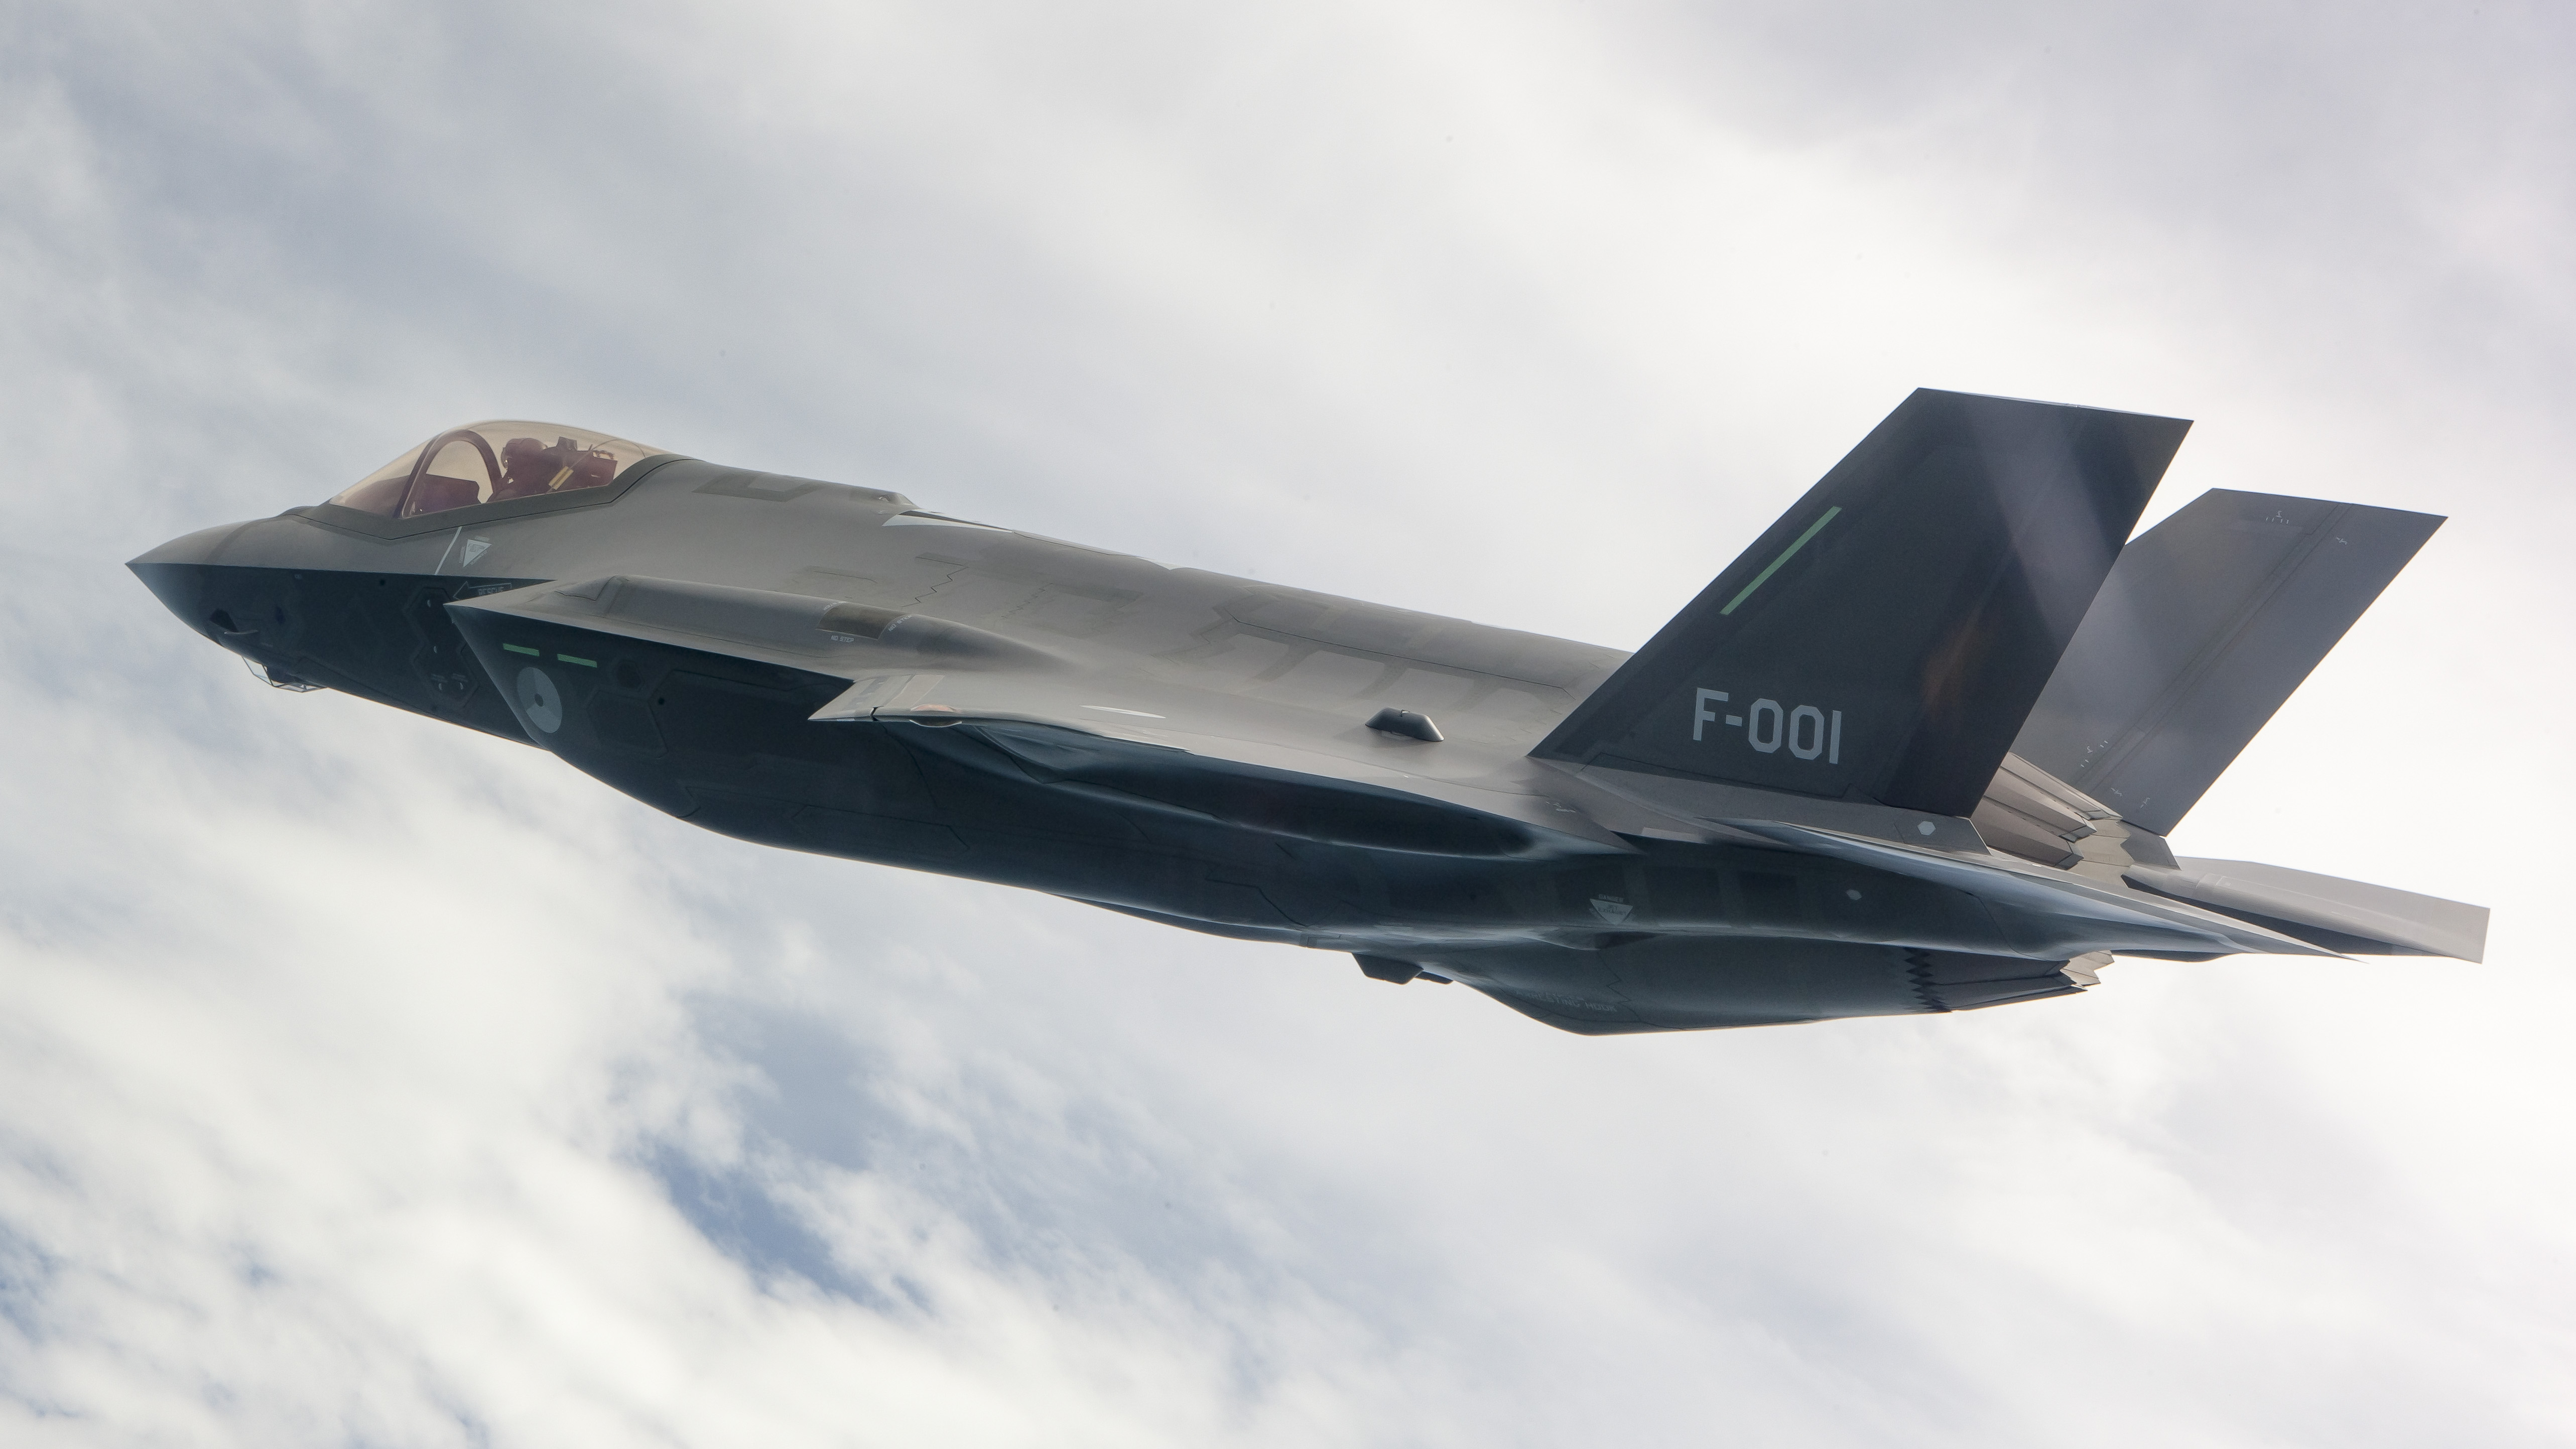F-35 Lightning: (106, 170, 2551, 1177)
